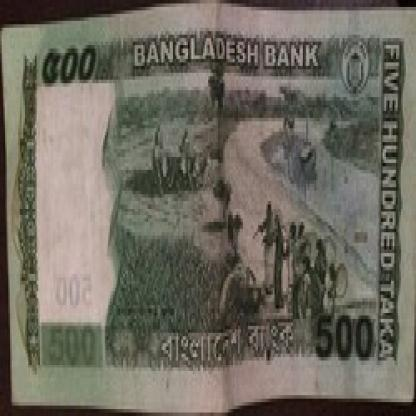500 taka: (313, 315, 376, 364), (38, 45, 106, 83)
